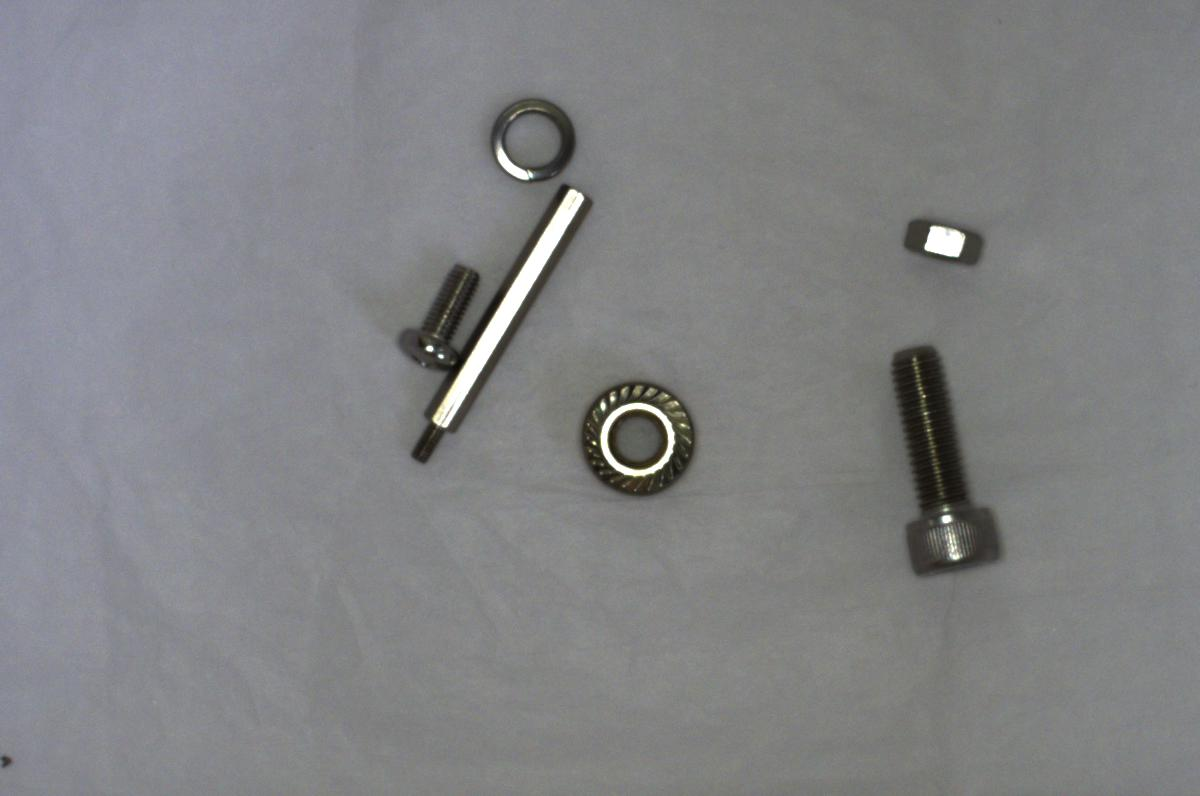Flange nut: (574, 372, 701, 500)
Hexagon nut: (895, 201, 988, 275)
Hexagon screw: (867, 342, 1019, 581)
Hexagonal steel column: (386, 181, 597, 469)
Round head screw: (397, 259, 478, 370)
Spring washer: (481, 89, 586, 185)
